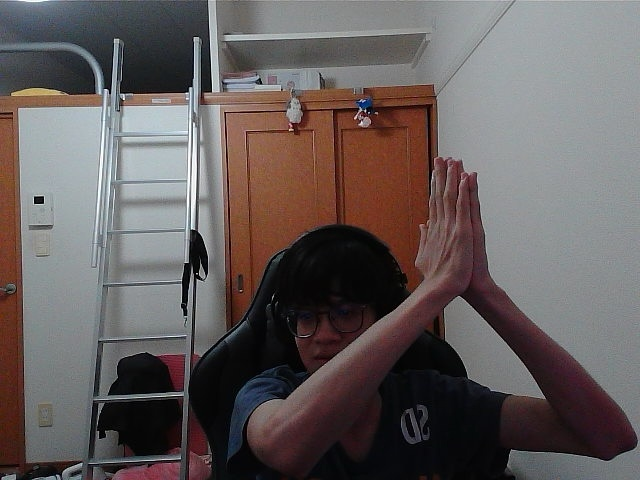pray: (425, 161, 466, 270)
